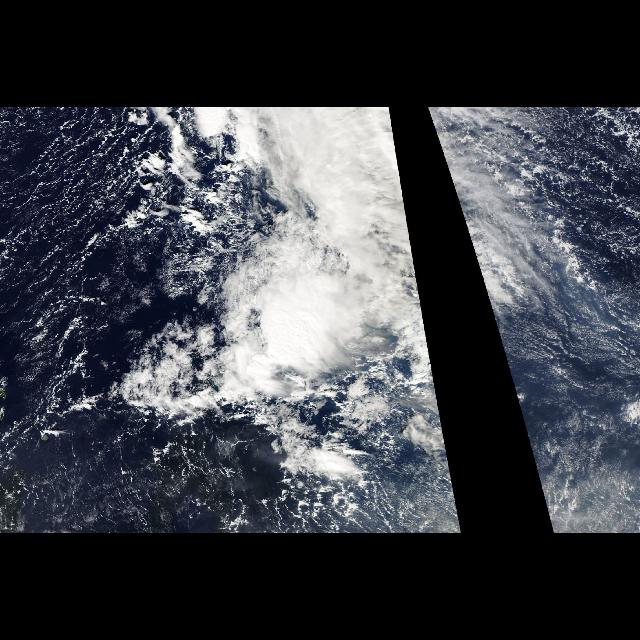Gravel: (0, 110, 124, 528), (131, 426, 313, 530)
Sugar: (2, 134, 148, 434), (486, 276, 640, 504)
